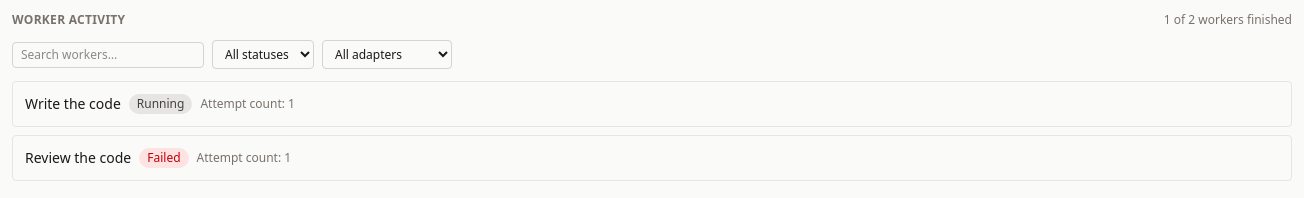
it: CeoWorkerActivityPanel › filters by status
The image size is (1304, 198).
Step 1. Select "Failed" in the dropdown named "Filter by status" → (263, 54), box [212,40,314,69]
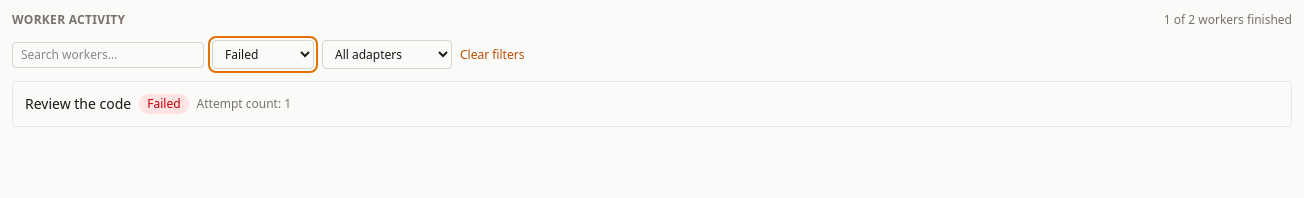
Check: the text "Review the code" is shown, box [25,94,131,114]
Check: the heading "Write the code" is gone
